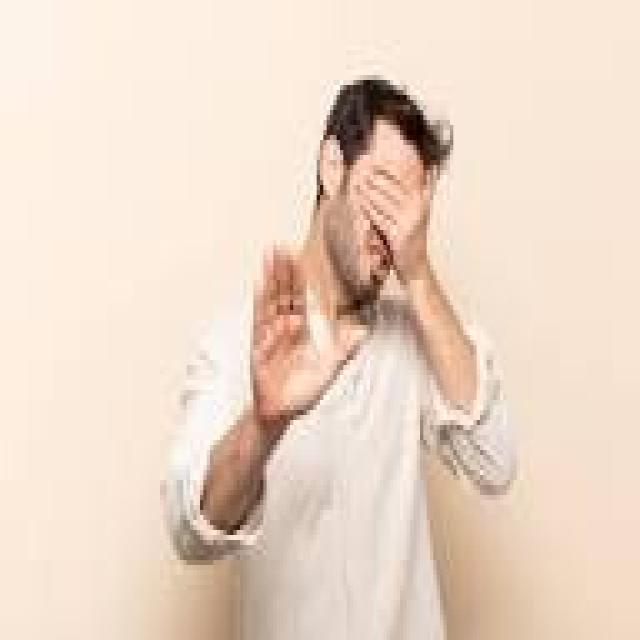7_mano_rostro: (348, 147, 466, 359)
